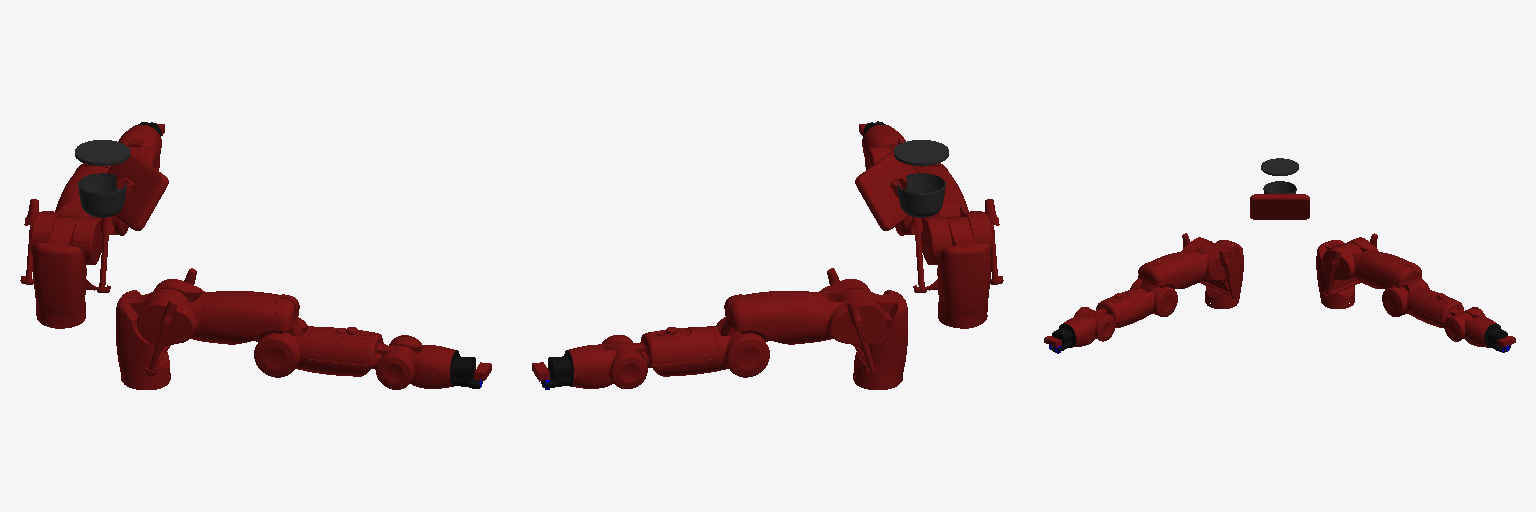
--- Facts derived from the render (not from the file) ---
The picture shows the robot from 3 angles, left to right: view 1: azimuth 30°, elevation 25°; view 2: azimuth 150°, elevation 25°; view 3: azimuth 270°, elevation 25°; orthographic projection.
Model dv with 44 links and 43 joints (15 revolute, 28 fixed), rooted at base, posed every joint at zero.
Visible links, largest first — view 1: left_upper_shoulder, right_upper_elbow, right_upper_shoulder, right_upper_forearm, right_lower_forearm, right_lower_shoulder, screen, left_lower_shoulder, right_lower_elbow, head, sonar_ring, left_lower_forearm (+2 smaller); view 2: right_upper_shoulder, left_upper_elbow, left_upper_shoulder, left_upper_forearm, left_lower_forearm, left_lower_shoulder, screen, right_lower_shoulder, left_lower_elbow, head, sonar_ring, right_lower_forearm (+2 smaller); view 3: right_upper_elbow, left_upper_elbow, left_upper_shoulder, right_upper_shoulder, screen, right_upper_forearm, left_upper_forearm, left_lower_forearm, right_lower_forearm, left_lower_shoulder, right_lower_shoulder, left_lower_elbow (+2 smaller).
Boxes of the visible links, bbox=[...] form: left_upper_shoulder: bbox=[20, 199, 114, 328]; right_upper_elbow: bbox=[199, 291, 303, 344]; right_upper_shoulder: bbox=[116, 268, 196, 389]; right_upper_forearm: bbox=[306, 327, 414, 376]; right_lower_forearm: bbox=[376, 335, 455, 389]; right_lower_shoulder: bbox=[137, 279, 206, 345]; screen: bbox=[107, 150, 168, 230]; left_lower_shoulder: bbox=[31, 200, 102, 264]; right_lower_elbow: bbox=[254, 317, 313, 377]; head: bbox=[78, 173, 126, 217]; sonar_ring: bbox=[75, 140, 129, 165]; left_lower_forearm: bbox=[118, 125, 161, 170]; right_upper_shoulder: bbox=[909, 199, 1003, 328]; left_upper_elbow: bbox=[720, 291, 824, 344]; left_upper_shoulder: bbox=[827, 268, 907, 389]; left_upper_forearm: bbox=[609, 326, 717, 376]; left_lower_forearm: bbox=[569, 335, 647, 388]; left_lower_shoulder: bbox=[817, 279, 886, 345]; screen: bbox=[855, 150, 916, 230]; right_lower_shoulder: bbox=[921, 200, 992, 264]; left_lower_elbow: bbox=[710, 317, 769, 377]; head: bbox=[897, 173, 945, 217]; sonar_ring: bbox=[894, 140, 948, 165]; right_lower_forearm: bbox=[862, 125, 905, 169]; right_upper_elbow: bbox=[1138, 251, 1203, 292]; left_upper_elbow: bbox=[1356, 251, 1421, 292]; left_upper_shoulder: bbox=[1316, 233, 1377, 308]; right_upper_shoulder: bbox=[1182, 233, 1243, 308]; screen: bbox=[1250, 194, 1309, 219]; right_upper_forearm: bbox=[1084, 288, 1149, 327]; left_upper_forearm: bbox=[1410, 288, 1473, 327]; left_lower_forearm: bbox=[1444, 307, 1496, 347]; right_lower_forearm: bbox=[1063, 307, 1114, 347]; left_lower_shoulder: bbox=[1322, 237, 1378, 281]; right_lower_shoulder: bbox=[1181, 237, 1237, 280]; left_lower_elbow: bbox=[1382, 278, 1429, 316].
Bounding box of the posed robot: 0.8913 × 2.11 × 0.6706 m (x, y, z).
Meshes: 11 distinct files referenced, 16 mesh visuals loaded (9 Collada DAE); not drawn: 2 (reference not matched to a file when rendering).

The robot description file, URDF, robot "dv":
<?xml version="1.0" ?>
<!-- =================================================================================== -->
<!-- |    This document was autogenerated by xacro from dv.urdf.xacro                  | -->
<!-- |    EDITING THIS FILE BY HAND IS NOT RECOMMENDED                                 | -->
<!-- =================================================================================== -->
<robot name="dv">
  <link name="base">
    <inertial>
      <origin rpy="0 0 0" xyz="0 0 0"/>
      <mass value="0.1"/>
      <inertia ixx="1" ixy="0" ixz="0" iyy="1" iyz="0" izz="1"/>
    </inertial>
  </link>
  <link name="torso">
    <visual>
      <origin rpy="0 0 0" xyz="0 0 0"/>
      <geometry>
        <!-- <box size="0.2 0.35 0.4" /> -->
        <mesh filename="package://baxter_description/meshes/torso/base_link.DAE"/>
      </geometry>
      <material name="darkgray">
        <color rgba=".2 .2 .2 1"/>
      </material>
    </visual>
    <collision>
      <origin rpy="0 0 0" xyz="-0.065 0 0.0"/>
      <geometry>
        <cylinder length="0.7" radius="0.27"/>
      </geometry>
    </collision>
    <inertial>
      <origin rpy="0 0 0" xyz="0.000000 0.000000 0.000000"/>
      <mass value="35.336455"/>
      <inertia ixx="1.849155" ixy="-0.000354" ixz="-0.154188" iyy="1.662671" iyz="0.003292" izz="0.802239"/>
    </inertial>
  </link>
  <link name="left_torso_itb">
    <!-- note: invisible -->
    <!--
         <visual>
  	   <origin xyz="0 0 0" rpy="0 0 0" />
           <geometry>
             <box size=".059 0.118  0.032" />
           </geometry>
           <material name="white">
             <color rgba="1 1 1 1" />
           </material>
         </visual>
         -->
    <inertial>
      <origin rpy="0 0 0" xyz="0.000000 0.000000 0.000000"/>
      <mass value="0.001"/>
      <inertia ixx="1" ixy="0" ixz="0" iyy="1" iyz="0" izz="1"/>
    </inertial>
  </link>
  <link name="right_torso_itb">
    <!-- note: invisible -->
    <!--
         <visual>
  	   <origin xyz="0 0 0" rpy="0 0 0" />
           <geometry>
             <box size=".059 0.118  0.032" />
           </geometry>
           <material name="white">
             <color rgba="1 1 1 1" />
           </material>
         </visual>
         -->
    <inertial>
      <origin rpy="0 0 0" xyz="0.000000 0.000000 0.000000"/>
      <mass value="0.001"/>
      <inertia ixx="1" ixy="0" ixz="0" iyy="1" iyz="0" izz="1"/>
    </inertial>
  </link>
  <link name="pedestal">
    <visual>
      <origin rpy="0 0 0" xyz="0 0 0"/>
      <geometry>
        <mesh filename="package://baxter_description/meshes/base/PEDESTAL.DAE"/>
      </geometry>
      <material name="darkgray">
        <color rgba=".2 .2 .2 1"/>
      </material>
    </visual>
    <collision>
      <origin rpy="0 0 0" xyz="0.0 0 0.0"/>
      <geometry>
        <mesh filename="package://baxter_description/meshes/base/PEDESTAL.DAE"/>
        <!--cylinder length="0.7" radius="0.25"/-->
      </geometry>
    </collision>
    <inertial>
      <origin rpy="0 0 0" xyz="0 0 0"/>
      <mass value="60.86397744"/>
      <inertia ixx="5.0635929" ixy="0.00103417" ixz="0.80199628" iyy="6.08689388" iyz="0.00105311" izz="4.96191932"/>
    </inertial>
  </link>
  <link name="head">
    <visual>
      <origin rpy="0 0 0" xyz="-.03477 0 .00953"/>
      <geometry>
        <!-- <cylinder length="0.04" radius="0.09"/> -->
        <mesh filename="package://baxter_description/meshes/head/H0.DAE"/>
      </geometry>
      <material name="darkgray">
        <color rgba=".2 .2 .2 1"/>
      </material>
    </visual>
    <collision>
      <origin rpy="0 0 0" xyz="0.0 0 0.0"/>
      <geometry>
        <sphere radius="0.001"/>
      </geometry>
    </collision>
    <inertial>
      <origin rpy="0 0 0" xyz="0 0 0"/>
      <mass value="0.547767"/>
      <inertia ixx="0.004641" ixy="0.000159" ixz="0.000242" iyy="0.003295" iyz="-0.001324" izz="0.003415"/>
    </inertial>
  </link>
  <link name="sonar_ring">
    <visual>
      <origin rpy="0 0 0" xyz="-.0347 0 .00953"/>
      <geometry>
        <cylinder length="0.01" radius="0.085"/>
      </geometry>
      <material name="darkgray">
        <color rgba=".2 .2 .2 1"/>
      </material>
    </visual>
    <collision>
      <origin rpy="0 0 0" xyz="0.0 0 0.0"/>
      <geometry>
        <sphere radius="0.001"/>
      </geometry>
    </collision>
    <inertial>
      <origin rpy="0 0 0" xyz="0 0 0"/>
      <mass value="0.001"/>
      <inertia ixx="1" ixy="0" ixz="0" iyy="1" iyz="0" izz="1"/>
    </inertial>
  </link>
  <link name="screen">
    <visual>
      <origin rpy="0 -1.571 0" xyz="0 -.00953 -.0347"/>
      <geometry>
        <!-- <box size=".11 0.08  0.01"/> -->
        <mesh filename="package://baxter_description/meshes/head/H1.DAE"/>
      </geometry>
      <material name="darkred">
        <color rgba=".5 .1 .1 1"/>
      </material>
    </visual>
    <collision>
      <origin rpy="0 0 0" xyz="0.0 0 0.0"/>
      <geometry>
        <sphere radius="0.001"/>
      </geometry>
    </collision>
    <inertial>
      <origin rpy="0 0 0" xyz="0 0 0"/>
      <mass value="0.440171"/>
      <inertia ixx="0.004006" ixy="0.000230" ixz="0.000002" iyy="0.002800" iyz="0.000029" izz="0.001509"/>
    </inertial>
  </link>
  <link name="head_camera">
    <inertial>
      <origin rpy="0 0 0" xyz="0 0 0"/>
      <mass value="0.001"/>
      <inertia ixx="1" ixy="0" ixz="0" iyy="1" iyz="0" izz="1"/>
    </inertial>
  </link>
  <link name="dummyhead1">
    <inertial>
      <origin rpy="0 0 0" xyz="0 0 0"/>
      <mass value="0.001"/>
      <inertia ixx="1" ixy="0" ixz="0" iyy="1" iyz="0" izz="1"/>
    </inertial>
  </link>
  <link name="collision_head_link_1">
    <visual>
      <origin rpy="0 0 0" xyz="0 0 0"/>
      <geometry>
        <sphere radius="0.001"/>
      </geometry>
      <material name="red">
        <color rgba="0.8 0.3 0.3 0.3"/>
      </material>
    </visual>
    <collision>
      <origin rpy="0 0 0.0" xyz="-0.07 -0.04 0.0"/>
      <geometry>
        <!-- <cylinder radius="0.18" length="0.4" /> -->
        <sphere radius="0.22"/>
      </geometry>
    </collision>
    <inertial>
      <origin rpy="0 0 0" xyz="0 0 0"/>
      <mass value="0.001"/>
      <inertia ixx="1" ixy="0" ixz="0" iyy="1" iyz="0" izz="1"/>
    </inertial>
  </link>
  <link name="collision_head_link_2">
    <visual>
      <origin rpy="0 0 0" xyz="0 0 0"/>
      <geometry>
        <sphere radius="0.001"/>
      </geometry>
      <material name="red">
        <color rgba="0.8 0.3 0.3 0.3"/>
      </material>
    </visual>
    <collision>
      <!-- <origin xyz="0.0 0.03 0.02" rpy="0 0 0" /> -->
      <origin rpy="0 0 0" xyz="-0.07 0.04 0.00"/>
      <geometry>
        <!-- <box size="0.34 0.27 0.14" /> -->
        <sphere radius="0.22"/>
      </geometry>
    </collision>
    <inertial>
      <origin rpy="0 0 0" xyz="0 0 0"/>
      <mass value="0.001"/>
      <inertia ixx="1" ixy="0" ixz="0" iyy="1" iyz="0" izz="1"/>
    </inertial>
  </link>
  <joint name="collision_head_1" type="fixed">
    <origin rpy="0 0 0" xyz="0.11 0 0.75"/>
    <parent link="base"/>
    <child link="collision_head_link_1"/>
  </joint>
  <joint name="collision_head_2" type="fixed">
    <origin rpy="0 0 0" xyz="0.11 0 0.75"/>
    <parent link="base"/>
    <child link="collision_head_link_2"/>
  </joint>
  <joint name="dummy" type="fixed">
    <origin rpy="0 0 0" xyz="0 0 0"/>
    <parent link="head"/>
    <child link="dummyhead1"/>
  </joint>
  <joint name="torso_t0" type="fixed">
    <origin rpy="0 0 0" xyz="0 0 0"/>
    <parent link="base"/>
    <child link="torso"/>
    <limit effort="50000" lower="-3.01" upper="3.01" velocity="10000"/>
  </joint>
  <joint name="left_torso_itb_fixed" type="fixed">
    <origin rpy="-1.571 3.1415 0" xyz="-0.08897 0.15593 0.389125"/>
    <parent link="torso"/>
    <child link="left_torso_itb"/>
  </joint>
  <joint name="right_torso_itb_fixed" type="fixed">
    <origin rpy="1.571 0 0" xyz="-0.08897 -0.15593 0.389125"/>
    <parent link="torso"/>
    <child link="right_torso_itb"/>
  </joint>
  <joint name="pedestal_fixed" type="fixed">
    <origin rpy="0 0 0" xyz="0.0 0.0 0.0"/>
    <parent link="torso"/>
    <child link="pedestal"/>
  </joint>
  <joint name="head_pan" type="revolute">
    <origin rpy="0 0 0" xyz="0.0947 0 0.686"/>
    <axis xyz="0 0 1"/>
    <parent link="torso"/>
    <child link="head"/>
    <limit effort="50000" lower="-1.571" upper="1.571" velocity="10000"/>
    <dynamics damping="0.0" friction="0.0"/>
  </joint>
  <joint name="head_nod" type="fixed">
    <origin rpy="1.9198622 0.0 1.571" xyz=".088 0.0 0.0"/>
    <parent link="head"/>
    <child link="screen"/>
  </joint>
  <joint name="head_camera" type="fixed">
    <origin rpy="1.9198622 0.0 1.571" xyz="0.12839 0.0 0.06368"/>
    <parent link="head"/>
    <child link="head_camera"/>
  </joint>
  <joint name="sonar_s0" type="fixed">
    <origin rpy="0 0 0" xyz="0.0947 0 .817"/>
    <axis xyz="0 0 1"/>
    <parent link="torso"/>
    <child link="sonar_ring"/>
  </joint>
  <link name="right_arm_mount">
    <!-- all defaults -->
    <inertial>
      <origin rpy="0 0 0" xyz="0 0 0"/>
      <mass value="0.001"/>
      <inertia ixx="1" ixy="0" ixz="0" iyy="1" iyz="0" izz="1"/>
    </inertial>
  </link>
  <link name="right_upper_shoulder">
    <visual>
      <origin rpy="0 0 0" xyz="0 0 0"/>
      <geometry>
        <!-- <cylinder radius="0.06" length="0.2722" /> -->
        <mesh filename="package://baxter_description/meshes/upper_shoulder/S0.DAE"/>
      </geometry>
      <material name="darkred">
        <color rgba=".5 .1 .1 1"/>
      </material>
    </visual>
    <collision>
      <origin rpy="0 0 0" xyz="0 0 0"/>
      <geometry>
        <cylinder length="0.22" radius="0.15"/>
      </geometry>
    </collision>
    <inertial>
      <origin rpy="0 0 0" xyz="0.01783 0.00086 0.19127"/>
      <mass value="5.70044"/>
      <inertia ixx="0.04709102262" ixy="0.00012787556" ixz="0.00614870039" iyy="0.03766976455" iyz="0.00078086899" izz="0.03595988478"/>
    </inertial>
  </link>
  <link name="right_lower_shoulder">
    <visual>
      <origin rpy="0 0 0" xyz="0 0 0"/>
      <geometry>
        <!-- <cylinder radius="0.06" length="0.12" /> -->
        <mesh filename="package://baxter_description/meshes/lower_shoulder/S1.DAE"/>
      </geometry>
      <material name="darkred">
        <color rgba=".5 .1 .1 1"/>
      </material>
    </visual>
    <inertial>
      <origin rpy="0 0 0" xyz="0.06845 0.00269 -0.00529"/>
      <mass value="3.22698"/>
      <inertia ixx="0.01175209419" ixy="-0.00030096398" ixz="0.00207675762" iyy="0.0278859752" iyz="-0.00018821993" izz="0.02078749298"/>
    </inertial>
  </link>
  <link name="right_upper_elbow">
    <visual>
      <origin rpy="0 0 0" xyz="0 0 0"/>
      <geometry>
        <!-- <cylinder radius="0.06" length="0.107" /> -->
        <mesh filename="package://baxter_description/meshes/upper_elbow/E0.DAE"/>
      </geometry>
      <material name="darkred">
        <color rgba=".5 .1 .1 1"/>
      </material>
    </visual>
    <collision>
      <origin rpy="0 0 0" xyz="0 0 0"/>
      <geometry>
        <cylinder length="0.05" radius="0.14"/>
      </geometry>
    </collision>
    <inertial>
      <origin rpy="0 0 0" xyz="-0.00276 0.00132 0.18086"/>
      <mass value="4.31272"/>
      <inertia ixx="0.02661733557" ixy="0.00029270634" ixz="0.00392189887" iyy="0.02844355207" iyz="0.0010838933" izz="0.01248008322"/>
    </inertial>
  </link>
  <link name="right_upper_elbow_visual">
    <collision>
      <origin rpy="0 0 0" xyz="0 0 0.1965"/>
      <geometry>
        <cylinder length="0.03" radius="0.12"/>
      </geometry>
    </collision>
    <inertial>
      <origin rpy="0 0 0" xyz="0 0 0"/>
      <mass value="0.001"/>
      <inertia ixx="1" ixy="0" ixz="0" iyy="1" iyz="0" izz="1"/>
    </inertial>
  </link>
  <link name="right_lower_elbow">
    <visual>
      <origin rpy="0 0 0" xyz="0 0 0"/>
      <geometry>
        <!-- <cylinder radius="0.06" length="0.10" /> -->
        <mesh filename="package://baxter_description/meshes/lower_elbow/E1.DAE"/>
      </geometry>
      <material name="darkred">
        <color rgba=".5 .1 .1 1"/>
      </material>
    </visual>
    <collision>
      <origin rpy="0 0 0" xyz="-0.06 0.0 0.0"/>
      <geometry>
        <sphere radius="0.12"/>
      </geometry>
    </collision>
    <inertial>
      <origin rpy="0 0 0" xyz="0.02611 0.00159 -0.01117"/>
      <mass value="2.07206"/>
      <inertia ixx="0.00711582686" ixy="0.00036036173" ixz="0.0007459496" iyy="0.01318227876" iyz="-0.00019663418" izz="0.00926852064"/>
    </inertial>
  </link>
  <link name="right_upper_forearm">
    <visual>
      <origin rpy="0 0 0" xyz="0 0 0"/>
      <geometry>
        <!-- <cylinder radius="0.06" length="0.088" /> -->
        <mesh filename="package://baxter_description/meshes/upper_forearm/W0.DAE"/>
      </geometry>
      <material name="darkred">
        <color rgba=".5 .1 .1 1"/>
      </material>
    </visual>
    <inertial>
      <origin rpy="0 0 0" xyz="-0.00168 0.0046 0.13952"/>
      <mass value="2.24665"/>
      <inertia ixx="0.01667742825" ixy="0.00018403705" ixz="0.00018657629" iyy="0.01675457264" iyz="-0.00064732352" izz="0.0037463115"/>
    </inertial>
  </link>
  <link name="right_upper_forearm_visual">
    <collision>
      <origin rpy="0 0 0" xyz="0 0 0.10"/>
      <geometry>
        <cylinder length="0.12" radius="0.12"/>
      </geometry>
    </collision>
    <inertial>
      <origin rpy="0 0 0" xyz="0 0 0"/>
      <mass value="0.001"/>
      <inertia ixx="1" ixy="0" ixz="0" iyy="1" iyz="0" izz="1"/>
    </inertial>
  </link>
  <link name="right_arm_itb">
    <!-- note: invisible -->
    <!--
         <visual>
  	   <origin xyz="0 0 0" rpy="0 0 0" />
           <geometry>
             <box size=".059 0.118  0.032" />
           </geometry>
           <material name="white">
             <color rgba="1 1 1 1" />
           </material>
         </visual>
         -->
    <inertial>
      <origin rpy="0 0 0" xyz="0 0 0"/>
      <mass value="0.001"/>
      <inertia ixx="1" ixy="0" ixz="0" iyy="1" iyz="0" izz="1"/>
    </inertial>
  </link>
  <link name="right_lower_forearm">
    <visual>
      <origin rpy="0 0 0" xyz="0 0 0"/>
      <geometry>
        <!-- <cylinder radius="0.06" length="0.10" /> -->
        <mesh filename="package://baxter_description/meshes/lower_forearm/W1.DAE"/>
      </geometry>
      <material name="darkred">
        <color rgba=".5 .1 .1 1"/>
      </material>
    </visual>
    <collision>
      <origin rpy="0 0 0" xyz="0 0 0"/>
      <geometry>
        <cylinder length="0.01" radius="0.12"/>
      </geometry>
    </collision>
    <inertial>
      <origin rpy="0 0 0" xyz="0.06041 0.00697 0.006"/>
      <mass value="1.60979"/>
      <inertia ixx="0.00387607152" ixy="-0.00044384784" ixz="-0.00021115038" iyy="0.00700537914" iyz="0.00015348067" izz="0.0055275524"/>
    </inertial>
  </link>
  <link name="right_wrist">
    <visual>
      <origin rpy="0 0 0" xyz="0 0 0"/>
      <geometry>
        <!-- <cylinder radius="0.06" length="0.165" /> -->
        <mesh filename="package://baxter_description/meshes/wrist/W2.DAE"/>
      </geometry>
      <material name="lightgrey">
        <color rgba=".1 .1 .1 1"/>
      </material>
    </visual>
    <collision>
      <origin rpy="0 0 0" xyz="0 0 0"/>
      <geometry>
        <cylinder length="0.04" radius="0.12"/>
      </geometry>
    </collision>
    <inertial>
      <origin rpy="0 0 0" xyz="0.00198 0.00125 0.01855"/>
      <mass value="0.35093"/>
      <inertia ixx="0.00025289155" ixy="0.00000575311" ixz="-0.00000159345" iyy="0.0002688601" iyz="-0.00000519818" izz="0.0003074118"/>
    </inertial>
  </link>
  <link name="right_hand">
    <!-- rendered in the mesh
      <visual>
        <origin xyz="0 0 -0.0232" rpy="0 0 0" />
        <geometry>
          <cylinder radius="0.04" length="0.0464" />
        </geometry>
        <material name="darkred">
          <color rgba=".5 .1 .1 1" />
        </material>
      </visual>
      -->
    <collision>
      <origin rpy="0 0 0" xyz="0 0 -0.0232 "/>
      <geometry>
        <cylinder length="0.04" radius="0.1"/>
      </geometry>
    </collision>
    <inertial>
      <origin rpy="0 0 0" xyz="0.01093 0.00042 -0.01532"/>
      <mass value="0.19125"/>
      <inertia ixx="0.00017588" ixy="0.00000147073" ixz="0.0000243633" iyy="0.00021166377" iyz="0.00000172689" izz="0.00023745397"/>
    </inertial>
  </link>
  <link name="right_hand_camera">
    <visual>
      <origin rpy="0 0 0" xyz="0 0 0"/>
      <geometry>
        <cylinder length="0.01" radius="0.02"/>
      </geometry>
      <material name="blue">
        <color rgba="0 0 1 0.8"/>
      </material>
    </visual>
    <inertial>
      <origin rpy="0 0 0" xyz="0 0 0"/>
      <mass value="0.001"/>
      <inertia ixx="1" ixy="0" ixz="0" iyy="1" iyz="0" izz="1"/>
    </inertial>
  </link>
  <link name="right_hand_camera_axis">
    <!--visual>
        <origin xyz="0 0 0" rpy="0 0 0" />
        <geometry>
          <cylinder radius="0.02" length="0.01" />
        </geometry>
        <material name="blue">
          <color rgba="0 0 1 0.8" />
        </material>
      </visual-->
    <inertial>
      <origin rpy="0 0 0" xyz="0 0 0"/>
      <mass value="0.001"/>
      <inertia ixx="1" ixy="0" ixz="0" iyy="1" iyz="0" izz="1"/>
    </inertial>
  </link>
  <link name="right_hand_range">
    <visual>
      <origin rpy="0 0 0" xyz="0 0 0"/>
      <geometry>
        <box size="0.005 .02 .005"/>
      </geometry>
      <material name="blue">
        <color rgba="0 0 1 0.8"/>
      </material>
    </visual>
    <inertial>
      <origin rpy="0 0 0" xyz="0 0 0"/>
      <mass value="0.001"/>
      <inertia ixx="1" ixy="0" ixz="0" iyy="1" iyz="0" izz="1"/>
    </inertial>
  </link>
  <link name="right_gripper">
    <visual>
      <origin rpy="0 0 0" xyz="0 0 -0.02"/>
      <geometry>
        <box size="0.025 0.075 0.035"/>
      </geometry>
      <material name="darkred">
        <color rgba=".5 .1 .1 1"/>
      </material>
    </visual>
    <inertial>
      <origin rpy="0 0 0" xyz="0.000000 0.000000 0.000000"/>
      <mass value="0.001"/>
      <inertia ixx="1" ixy="0" ixz="0" iyy="1" iyz="0" izz="1"/>
    </inertial>
  </link>
  <joint name="right_torso_arm_mount" type="fixed">
    <origin rpy="0 0 -0.7854" xyz="0.024645 -0.219645 0.118588"/>
    <parent link="torso"/>
    <child link="right_arm_mount"/>
  </joint>
  <joint name="right_s0" type="revolute">
    <origin rpy="0 0 0" xyz="0.055695 0 0.011038"/>
    <axis xyz="0 0 1"/>
    <parent link="right_arm_mount"/>
    <child link="right_upper_shoulder"/>
    <limit effort="60.0" lower="-1.70167993878" upper="1.70167993878" velocity="2.5"/>
    <dynamics damping="0.0" friction="0.0"/>
  </joint>
  <joint name="right_s1" type="revolute">
    <origin rpy="-1.571 0 0" xyz="0.069 0 0.27035"/>
    <axis xyz="0 0 1"/>
    <parent link="right_upper_shoulder"/>
    <child link="right_lower_shoulder"/>
    <limit effort="60.0" lower="-2.147" upper="1.047" velocity="2.5"/>
    <dynamics damping="0.0" friction="0.0"/>
  </joint>
  <joint name="right_e0" type="revolute">
    <origin rpy="1.571 0 1.571" xyz="0.102 0 0"/>
    <axis xyz="0 0 1"/>
    <parent link="right_lower_shoulder"/>
    <child link="right_upper_elbow"/>
    <limit effort="60.0" lower="-3.05417993878" upper="3.05417993878" velocity="2.5"/>
    <dynamics damping="0.0" friction="0.0"/>
  </joint>
  <joint name="right_e0_fixed" type="fixed">
    <origin rpy="1.571 0 1.571" xyz="0.107 0 0"/>
    <axis xyz="0 0 1"/>
    <parent link="right_lower_shoulder"/>
    <child link="right_upper_elbow_visual"/>
  </joint>
  <joint name="right_e1" type="revolute">
    <origin rpy="-1.571 -1.571 0" xyz="0.069 0 0.26242"/>
    <axis xyz="0 0 1"/>
    <parent link="right_upper_elbow"/>
    <child link="right_lower_elbow"/>
    <limit effort="60.0" lower="-0.05" upper="2.618" velocity="2.5"/>
    <dynamics damping="0.0" friction="0.0"/>
  </joint>
  <joint name="right_w0" type="revolute">
    <origin rpy="1.571 0 1.571" xyz="0.10359 0 0"/>
    <axis xyz="0 0 1"/>
    <parent link="right_lower_elbow"/>
    <child link="right_upper_forearm"/>
    <limit effort="20.0" lower="-3.059" upper="3.059" velocity="5.0"/>
    <dynamics damping="0.0" friction="0.0"/>
  </joint>
  <joint name="right_w0_fixed" type="fixed">
    <origin rpy="1.571 0 1.571" xyz="0.088 0 0"/>
    <axis xyz="0 0 1"/>
    <parent link="right_lower_elbow"/>
    <child link="right_upper_forearm_visual"/>
  </joint>
  <joint name="right_w0_to_itb_fixed" type="fixed">
    <!-- <origin xyz="-0.0565 0 0.1301" rpy="-1.571 0 1.571" /> -->
    <origin rpy="-1.571 0 1.571" xyz="-0.0565 0 0.12"/>
    <axis xyz="0 0 1"/>
    <parent link="right_upper_forearm"/>
    <child link="right_arm_itb"/>
  </joint>
  <joint name="right_w1" type="revolute">
    <origin rpy="-1.571 -1.571 0" xyz="0.01 0 0.2707"/>
    <axis xyz="0 0 1"/>
    <parent link="right_upper_forearm"/>
    <child link="right_lower_forearm"/>
    <limit effort="20.0" lower="-1.571" upper="2.094" velocity="5.0"/>
    <dynamics damping="0.0" friction="0.0"/>
  </joint>
  <joint name="right_w2" type="revolute">
    <origin rpy="1.571 0 1.571" xyz="0.115975 0 0"/>
    <axis xyz="0 0 1"/>
    <parent link="right_lower_forearm"/>
    <child link="right_wrist"/>
    <limit effort="20.0" lower="-3.059" upper="3.059" velocity="5.0"/>
    <dynamics damping="0.0" friction="0.0"/>
  </joint>
  <joint name="right_hand" type="fixed">
    <origin rpy="0 0 0" xyz="0 0 0.11355"/>
    <axis xyz="0 0 1"/>
    <parent link="right_wrist"/>
    <child link="right_hand"/>
    <dynamics damping="0.0" friction="0.0"/>
  </joint>
  <joint name="right_hand_camera" type="fixed">
    <origin rpy="0 0 -1.57079633" xyz="0.03825 0.012 0.015355"/>
    <parent link="right_hand"/>
    <child link="right_hand_camera"/>
  </joint>
  <joint name="right_hand_camera_axis" type="fixed">
    <origin rpy="0 0 0" xyz="0.03825 0.012 0.015355"/>
    <parent link="right_hand"/>
    <child link="right_hand_camera_axis"/>
  </joint>
  <joint name="right_hand_range" type="fixed">
    <origin rpy="0 -1.571 -1.571" xyz="0.032 -0.020245 0.0288"/>
    <parent link="right_hand"/>
    <child link="right_hand_range"/>
  </joint>
  <joint name="right_endpoint" type="fixed">
    <origin rpy="0 0 0" xyz="0.0 0 0.05"/>
    <parent link="right_hand"/>
    <child link="right_gripper"/>
  </joint>
  <link name="left_arm_mount">
    <!-- all defaults -->
    <inertial>
      <origin rpy="0 0 0" xyz="0.000000 0.000000 0.000000"/>
      <mass value="0.001"/>
      <inertia ixx="1" ixy="0" ixz="0" iyy="1" iyz="0" izz="1"/>
    </inertial>
  </link>
  <link name="left_upper_shoulder">
    <visual>
      <origin rpy="0 0 0" xyz="0 0 0"/>
      <geometry>
        <!-- <cylinder radius="0.06" length="0.2722" /> -->
        <mesh filename="package://baxter_description/meshes/upper_shoulder/S0.DAE"/>
      </geometry>
      <material name="darkred">
        <color rgba=".5 .1 .1 1"/>
      </material>
    </visual>
    <collision>
      <origin rpy="0 0 0" xyz="0 0 0"/>
      <geometry>
        <cylinder length="0.22" radius="0.15"/>
      </geometry>
    </collision>
    <inertial>
      <origin rpy="0 0 0" xyz="0.01783 0.00086 0.19127"/>
      <mass value="5.70044"/>
      <inertia ixx="0.04709102262" ixy="0.00012787556" ixz="0.00614870039" iyy="0.03766976455" iyz="0.00078086899" izz="0.03595988478"/>
    </inertial>
  </link>
  <link name="left_lower_shoulder">
    <visual>
      <origin rpy="0 0 0" xyz="0 0 0"/>
      <geometry>
        <!-- <cylinder radius="0.06" length="0.12" /> -->
        <mesh filename="package://baxter_description/meshes/lower_shoulder/S1.DAE"/>
      </geometry>
      <material name="darkred">
        <color rgba=".5 .1 .1 1"/>
      </material>
    </visual>
    <inertial>
      <origin rpy="0 0 0" xyz="0.06845 0.00269 -0.00529"/>
      <mass value="3.22698"/>
      <inertia ixx="0.01175209419" ixy="-0.00030096398" ixz="0.00207675762" iyy="0.0278859752" iyz="-0.00018821993" izz="0.02078749298"/>
    </inertial>
  </link>
  <link name="left_upper_elbow">
    <visual>
      <origin rpy="0 0 0" xyz="0 0 0"/>
      <geometry>
        <!-- <cylinder radius="0.06" length="0.107" /> -->
        <mesh filename="package://baxter_description/meshes/upper_elbow/E0.DAE"/>
      </geometry>
      <material name="darkred">
        <color rgba=".5 .1 .1 1"/>
      </material>
    </visual>
    <collision>
      <origin rpy="0 0 0" xyz="0 0 0"/>
      <geometry>
        <cylinder length="0.05" radius="0.14"/>
      </geometry>
    </collision>
    <inertial>
      <origin rpy="0 0 0" xyz="-0.00276 0.00132 0.18086"/>
      <mass value="4.31272"/>
      <inertia ixx="0.02661733557" ixy="0.00029270634" ixz="0.00392189887" iyy="0.02844355207" iyz="0.0010838933" izz="0.01248008322"/>
    </inertial>
  </link>
  <link name="left_upper_elbow_visual">
    <collision>
      <origin rpy="0 0 0" xyz="0 0 0.1965"/>
      <geometry>
        <cylinder length="0.03" radius="0.12"/>
      </geometry>
    </collision>
    <inertial>
      <origin rpy="0 0 0" xyz="0 0 0"/>
      <mass value="0.001"/>
      <inertia ixx="1" ixy="0" ixz="0" iyy="1" iyz="0" izz="1"/>
    </inertial>
  </link>
  <link name="left_lower_elbow">
    <visual>
      <origin rpy="0 0 0" xyz="0 0 0"/>
      <geometry>
        <!-- <cylinder radius="0.06" length="0.10" /> -->
        <mesh filename="package://baxter_description/meshes/lower_elbow/E1.DAE"/>
      </geometry>
      <material name="darkred">
        <color rgba=".5 .1 .1 1"/>
      </material>
    </visual>
    <collision>
      <origin rpy="0 0 0" xyz="-0.06 0.0 0.0"/>
      <geometry>
        <sphere radius="0.12"/>
      </geometry>
    </collision>
    <inertial>
      <origin rpy="0 0 0" xyz="0.02611 0.00159 -0.01117"/>
      <mass value="2.07206"/>
      <inertia ixx="0.00711582686" ixy="0.00036036173" ixz="0.0007459496" iyy="0.01318227876" iyz="-0.00019663418" izz="0.00926852064"/>
    </inertial>
  </link>
  <link name="left_upper_forearm">
    <visual>
      <origin rpy="0 0 0" xyz="0 0 0"/>
      <geometry>
        <!-- <cylinder radius="0.06" length="0.088" /> -->
        <mesh filename="package://baxter_description/meshes/upper_forearm/W0.DAE"/>
      </geometry>
      <material name="darkred">
        <color rgba=".5 .1 .1 1"/>
      </material>
    </visual>
    <inertial>
      <origin rpy="0 0 0" xyz="-0.00168 0.0046 0.13952"/>
      <mass value="2.24665"/>
      <inertia ixx="0.01667742825" ixy="0.00018403705" ixz="0.00018657629" iyy="0.01675457264" iyz="-0.00064732352" izz="0.0037463115"/>
    </inertial>
  </link>
  <link name="left_upper_forearm_visual">
    <collision>
      <origin rpy="0 0 0" xyz="0 0 0.10"/>
      <geometry>
        <cylinder length="0.12" radius="0.12"/>
      </geometry>
    </collision>
    <inertial>
      <origin rpy="0 0 0" xyz="0 0 0"/>
      <mass value="0.001"/>
      <inertia ixx="1" ixy="0" ixz="0" iyy="1" iyz="0" izz="1"/>
    </inertial>
  </link>
  <link name="left_arm_itb">
    <!-- note: invisible -->
    <!--
         <visual>
  	   <origin xyz="0 0 0" rpy="0 0 0" />
           <geometry>
             <box size=".059 0.118  0.032" />
           </geometry>
           <material name="white">
             <color rgba="1 1 1 1" />
           </material>
         </visual>
         -->
    <inertial>
      <origin rpy="0 0 0" xyz="0 0 0"/>
      <mass value="0.1"/>
      <inertia ixx="1" ixy="0" ixz="0" iyy="1" iyz="0" izz="1"/>
    </inertial>
  </link>
  <link name="left_lower_forearm">
    <visual>
      <origin rpy="0 0 0" xyz="0 0 0"/>
      <geometry>
        <!-- <cylinder radius="0.06" length="0.10" /> -->
        <mesh filename="package://baxter_description/meshes/lower_forearm/W1.DAE"/>
      </geometry>
      <material name="darkred">
        <color rgba=".5 .1 .1 1"/>
      </material>
    </visual>
    <collision>
      <origin rpy="0 0 0" xyz="0 0 0"/>
      <geometry>
        <cylinder length="0.01" radius="0.12"/>
      </geometry>
    </collision>
    <inertial>
      <origin rpy="0 0 0" xyz="0.06041 0.00697 0.006"/>
      <mass value="1.60979"/>
      <inertia ixx="0.00387607152" ixy="-0.00044384784" ixz="-0.00021115038" iyy="0.00700537914" iyz="0.00015348067" izz="0.0055275524"/>
    </inertial>
  </link>
  <link name="left_wrist">
    <visual>
      <origin rpy="0 0 0" xyz="0 0 0"/>
      <geometry>
        <!-- <cylinder radius="0.06" length="0.165" /> -->
        <mesh filename="package://baxter_description/meshes/wrist/W2.DAE"/>
      </geometry>
      <material name="lightgrey">
        <color rgba=".1 .1 .1 1"/>
      </material>
    </visual>
    <collision>
      <origin rpy="0 0 0" xyz="0 0 0"/>
      <geometry>
        <cylinder length="0.04" radius="0.12"/>
      </geometry>
    </collision>
    <inertial>
      <origin rpy="0 0 0" xyz="0.00198 0.00125 0.01855"/>
      <mass value="0.35093"/>
      <inertia ixx="0.00025289155" ixy="0.00000575311" ixz="-0.00000159345" iyy="0.0002688601" iyz="-0.00000519818" izz="0.0003074118"/>
    </inertial>
  </link>
  <link name="left_hand">
    <!-- rendered in the mesh
      <visual>
        <origin xyz="0 0 -0.0232" rpy="0 0 0" />
        <geometry>
          <cylinder radius="0.04" length="0.0464" />
        </geometry>
        <material name="darkred">
          <color rgba=".5 .1 .1 1" />
        </material>
      </visual>
      -->
    <collision>
      <origin rpy="0 0 0" xyz="0 0 -0.0232 "/>
      <geometry>
        <cylinder length="0.04" radius="0.1"/>
      </geometry>
    </collision>
    <inertial>
      <origin rpy="0 0 0" xyz="0.01093 0.00042 -0.01532"/>
      <mass value="0.19125"/>
      <inertia ixx="0.00017588" ixy="0.00000147073" ixz="0.0000243633" iyy="0.00021166377" iyz="0.00000172689" izz="0.00023745397"/>
    </inertial>
  </link>
  <link name="left_hand_camera">
    <visual>
      <origin rpy="0 0 0" xyz="0 0 0"/>
      <geometry>
        <cylinder length="0.01" radius="0.02"/>
      </geometry>
      <material name="blue">
        <color rgba="0 0 1 0.8"/>
      </material>
    </visual>
    <inertial>
      <origin rpy="0 0 0" xyz="0 0 0"/>
      <mass value="0.001"/>
      <inertia ixx="1" ixy="0" ixz="0" iyy="1" iyz="0" izz="1"/>
    </inertial>
  </link>
  <link name="left_hand_camera_axis">
    <!--visual>
        <origin xyz="0 0 0" rpy="0 0 0" />
        <geometry>
          <cylinder radius="0.02" length="0.01" />
        </geometry>
        <material name="blue">
          <color rgba="0 0 1 0.8" />
        </material>
      </visual-->
    <inertial>
      <origin rpy="0 0 0" xyz="0 0 0"/>
      <mass value="0.001"/>
      <inertia ixx="1" ixy="0" ixz="0" iyy="1" iyz="0" izz="1"/>
    </inertial>
  </link>
  <link name="left_hand_range">
    <visual>
      <origin rpy="0 0 0" xyz="0 0 0"/>
      <geometry>
        <box size="0.005 .02 .005"/>
      </geometry>
      <material name="blue">
        <color rgba="0 0 1 0.8"/>
      </material>
    </visual>
    <inertial>
      <origin rpy="0 0 0" xyz="0 0 0"/>
      <mass value="0.001"/>
      <inertia ixx="1" ixy="0" ixz="0" iyy="1" iyz="0" izz="1"/>
    </inertial>
  </link>
  <link name="left_gripper">
    <visual>
      <origin rpy="0 0 0" xyz="0 0 -0.02"/>
      <geometry>
        <box size="0.025 0.075 0.035"/>
      </geometry>
      <material name="darkred">
        <color rgba=".5 .1 .1 1"/>
      </material>
    </visual>
    <inertial>
      <origin rpy="0 0 0" xyz="0.000000 0.000000 0.000000"/>
      <mass value="0.001"/>
      <inertia ixx="1" ixy="0" ixz="0" iyy="1" iyz="0" izz="1"/>
    </inertial>
  </link>
  <joint name="left_torso_arm_mount" type="fixed">
    <origin rpy="0 0 0.7854" xyz="0.024645 0.219645 0.118588"/>
    <parent link="torso"/>
    <child link="left_arm_mount"/>
  </joint>
  <joint name="left_s0" type="revolute">
    <origin rpy="0 0 0" xyz="0.055695 0 0.011038"/>
    <axis xyz="0 0 1"/>
    <parent link="left_arm_mount"/>
    <child link="left_upper_shoulder"/>
    <limit effort="60.0" lower="-1.70167993878" upper="1.70167993878" velocity="2.5"/>
    <dynamics damping="0.0" friction="0.0"/>
  </joint>
  <joint name="left_s1" type="revolute">
    <origin rpy="-1.571 0 0" xyz="0.069 0 0.27035"/>
    <axis xyz="0 0 1"/>
    <parent link="left_upper_shoulder"/>
    <child link="left_lower_shoulder"/>
    <limit effort="60.0" lower="-2.147" upper="1.047" velocity="2.5"/>
    <dynamics damping="0.0" friction="0.0"/>
  </joint>
  <joint name="left_e0" type="revolute">
    <origin rpy="1.571 0 1.571" xyz="0.102 0 0"/>
    <axis xyz="0 0 1"/>
    <parent link="left_lower_shoulder"/>
    <child link="left_upper_elbow"/>
    <limit effort="60.0" lower="-3.05417993878" upper="3.05417993878" velocity="2.5"/>
    <dynamics damping="0.0" friction="0.0"/>
  </joint>
  <joint name="left_e0_fixed" type="fixed">
    <origin rpy="1.571 0 1.571" xyz="0.107 0 0"/>
    <axis xyz="0 0 1"/>
    <parent link="left_lower_shoulder"/>
    <child link="left_upper_elbow_visual"/>
  </joint>
  <joint name="left_e1" type="revolute">
    <origin rpy="-1.571 -1.571 0" xyz="0.069 0 0.26242"/>
    <axis xyz="0 0 1"/>
    <parent link="left_upper_elbow"/>
    <child link="left_lower_elbow"/>
    <limit effort="60.0" lower="-0.05" upper="2.618" velocity="2.5"/>
    <dynamics damping="0.0" friction="0.0"/>
  </joint>
  <joint name="left_w0" type="revolute">
    <origin rpy="1.571 0 1.571" xyz="0.10359 0 0"/>
    <axis xyz="0 0 1"/>
    <parent link="left_lower_elbow"/>
    <child link="left_upper_forearm"/>
    <limit effort="20.0" lower="-3.059" upper="3.059" velocity="5.0"/>
    <dynamics damping="0.0" friction="0.0"/>
  </joint>
  <joint name="left_w0_fixed" type="fixed">
    <origin rpy="1.571 0 1.571" xyz="0.088 0 0"/>
    <axis xyz="0 0 1"/>
    <parent link="left_lower_elbow"/>
    <child link="left_upper_forearm_visual"/>
  </joint>
  <joint name="left_w0_to_itb_fixed" type="fixed">
    <!-- <origin xyz="-0.0565 0 0.1301" rpy="-1.571 0 1.571" /> -->
    <origin rpy="-1.571 0 1.571" xyz="-0.0565 0 0.12"/>
    <axis xyz="0 0 1"/>
    <parent link="left_upper_forearm"/>
    <child link="left_arm_itb"/>
  </joint>
  <joint name="left_w1" type="revolute">
    <origin rpy="-1.571 -1.571 0" xyz="0.01 0 0.2707"/>
    <axis xyz="0 0 1"/>
    <parent link="left_upper_forearm"/>
    <child link="left_lower_forearm"/>
    <limit effort="20.0" lower="-1.571" upper="2.094" velocity="5.0"/>
    <dynamics damping="0.0" friction="0.0"/>
  </joint>
  <joint name="left_w2" type="revolute">
    <origin rpy="1.571 0 1.571" xyz="0.115975 0 0"/>
    <axis xyz="0 0 1"/>
    <parent link="left_lower_forearm"/>
    <child link="left_wrist"/>
    <limit effort="20.0" lower="-3.059" upper="3.059" velocity="5.0"/>
    <dynamics damping="0.0" friction="0.0"/>
  </joint>
  <joint name="left_hand" type="fixed">
    <origin rpy="0 0 0" xyz="0 0 0.11355"/>
    <axis xyz="0 0 1"/>
    <parent link="left_wrist"/>
    <child link="left_hand"/>
    <dynamics damping="0.0" friction="0.0"/>
  </joint>
  <joint name="left_hand_camera" type="fixed">
    <origin rpy="0 0 -1.57079633" xyz="0.03825 0.012 0.015355"/>
    <parent link="left_hand"/>
    <child link="left_hand_camera"/>
  </joint>
  <joint name="left_hand_camera_axis" type="fixed">
    <origin rpy="0 0 0" xyz="0.03825 0.012 0.015355"/>
    <parent link="left_hand"/>
    <child link="left_hand_camera_axis"/>
  </joint>
  <joint name="left_hand_range" type="fixed">
    <origin rpy="0 -1.571 -1.571" xyz="0.032 -0.020245 0.0288"/>
    <parent link="left_hand"/>
    <child link="left_hand_range"/>
  </joint>
  <joint name="left_endpoint" type="fixed">
    <origin rpy="0 0 0" xyz="0.0 0 0.05"/>
    <parent link="left_hand"/>
    <child link="left_gripper"/>
  </joint>
</robot>
